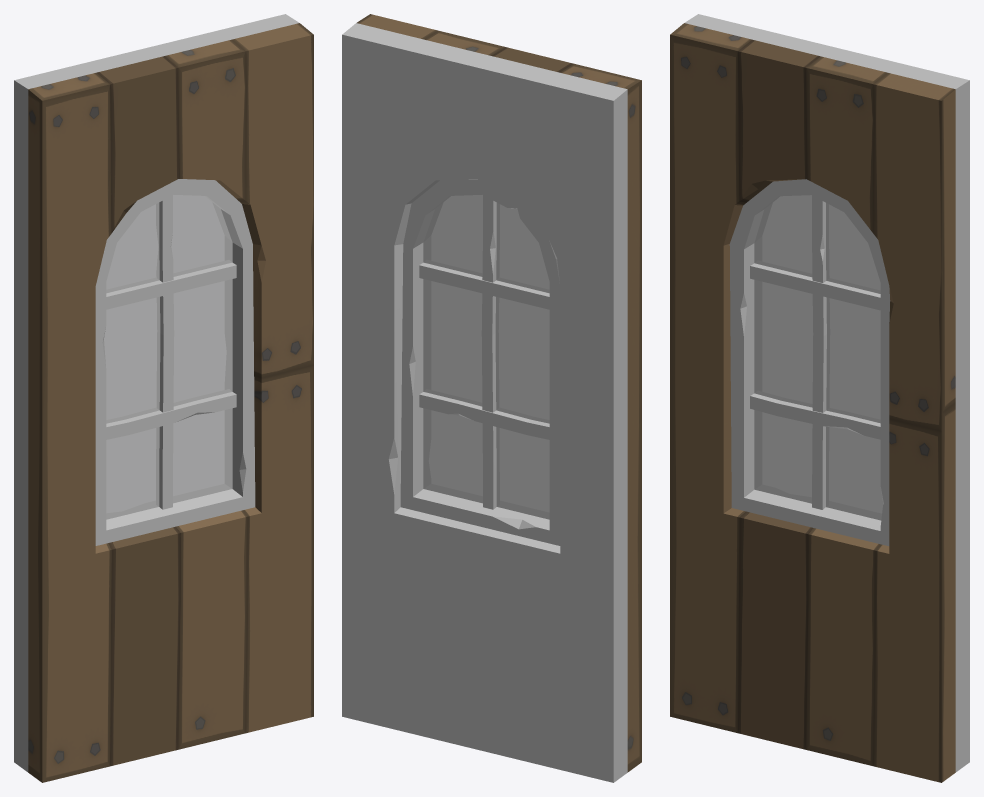
File: SM_Bld_Villa_Wall_Window_02_Half_01.fbx
The picture shows the model from 3 angles, left to right: view 1: azimuth 30°, elevation 25°; view 2: azimuth 150°, elevation 25°; view 3: azimuth 330°, elevation 25°; orthographic projection.
Parts seen in each view (by area): view 1: SM_Bld_Villa_Wall_Window_02_Half_01, SM_Bld_Villa_Wall_Window_02_Half_Glass_01; view 2: SM_Bld_Villa_Wall_Window_02_Half_01, SM_Bld_Villa_Wall_Window_02_Half_Glass_01; view 3: SM_Bld_Villa_Wall_Window_02_Half_01, SM_Bld_Villa_Wall_Window_02_Half_Glass_01.
Part boxes in pixels (x1,y1,x2,y2): SM_Bld_Villa_Wall_Window_02_Half_01: (14, 14, 313, 782); SM_Bld_Villa_Wall_Window_02_Half_Glass_01: (104, 195, 232, 519); SM_Bld_Villa_Wall_Window_02_Half_01: (342, 14, 641, 782); SM_Bld_Villa_Wall_Window_02_Half_Glass_01: (423, 195, 549, 519); SM_Bld_Villa_Wall_Window_02_Half_01: (670, 14, 969, 782); SM_Bld_Villa_Wall_Window_02_Half_Glass_01: (754, 195, 883, 520).
Size of the model in its own units: 125 by 301 by 22.5.
